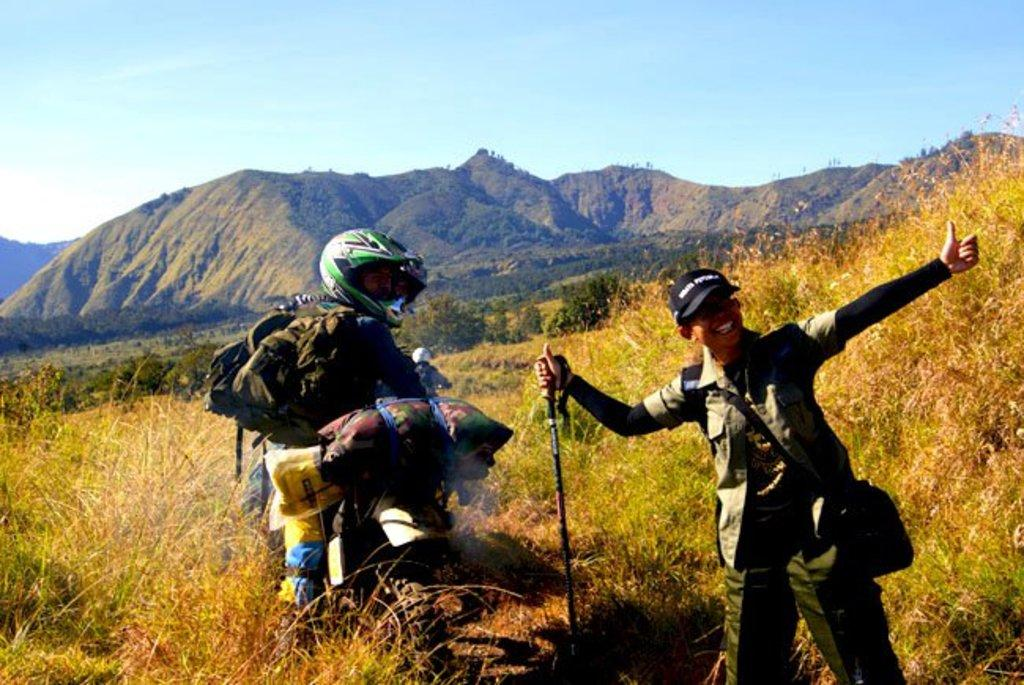helmet: (319, 228, 420, 328)
nohelmet: (667, 267, 744, 355)
